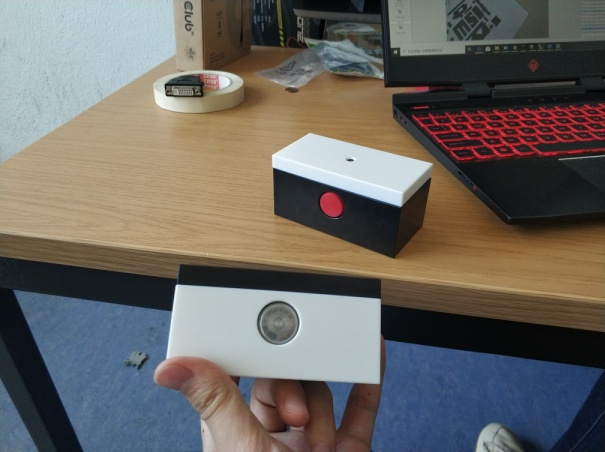black+white+silver: (165, 263, 385, 386)
white+black+red: (271, 131, 434, 260)
